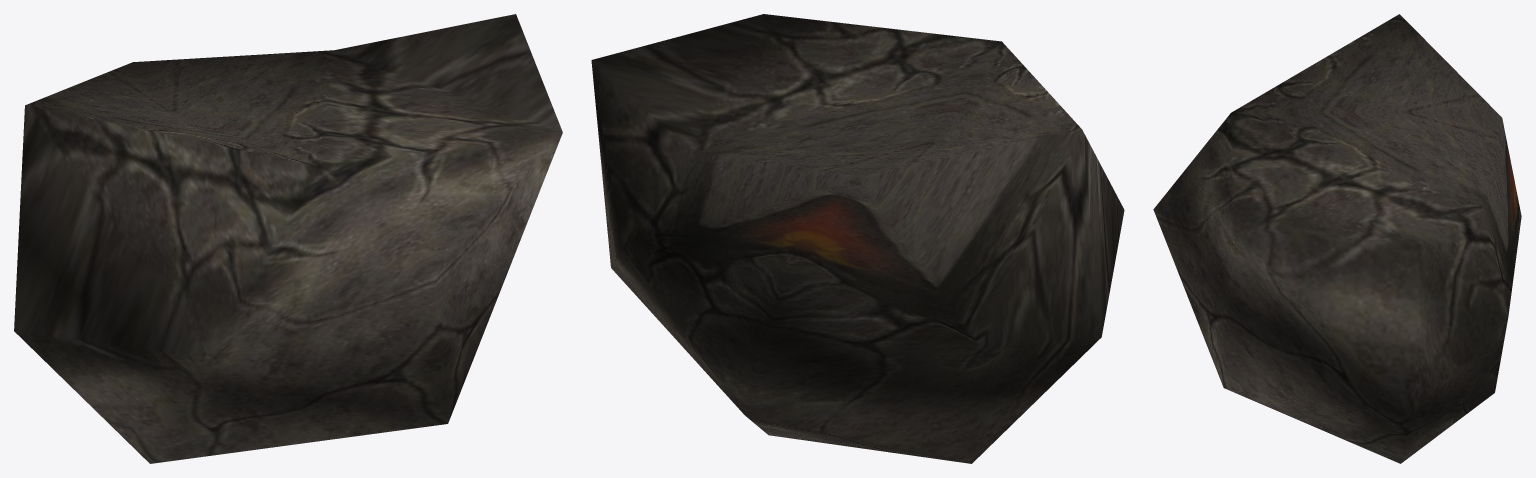
File: stone_13.obj
The picture shows the model from 3 angles, left to right: view 1: azimuth 30°, elevation 25°; view 2: azimuth 150°, elevation 25°; view 3: azimuth 270°, elevation 25°; orthographic projection. The views are drawn at different scales.
Parts seen in each view (by area): view 1: (null); view 2: (null); view 3: (null).
Part boxes in pixels (bbox=[...]): (null): bbox=[14, 14, 562, 463]; (null): bbox=[591, 14, 1124, 463]; (null): bbox=[1153, 14, 1521, 463].
Bounding box in the file's own units: 2.05 × 1.51 × 1.57.
